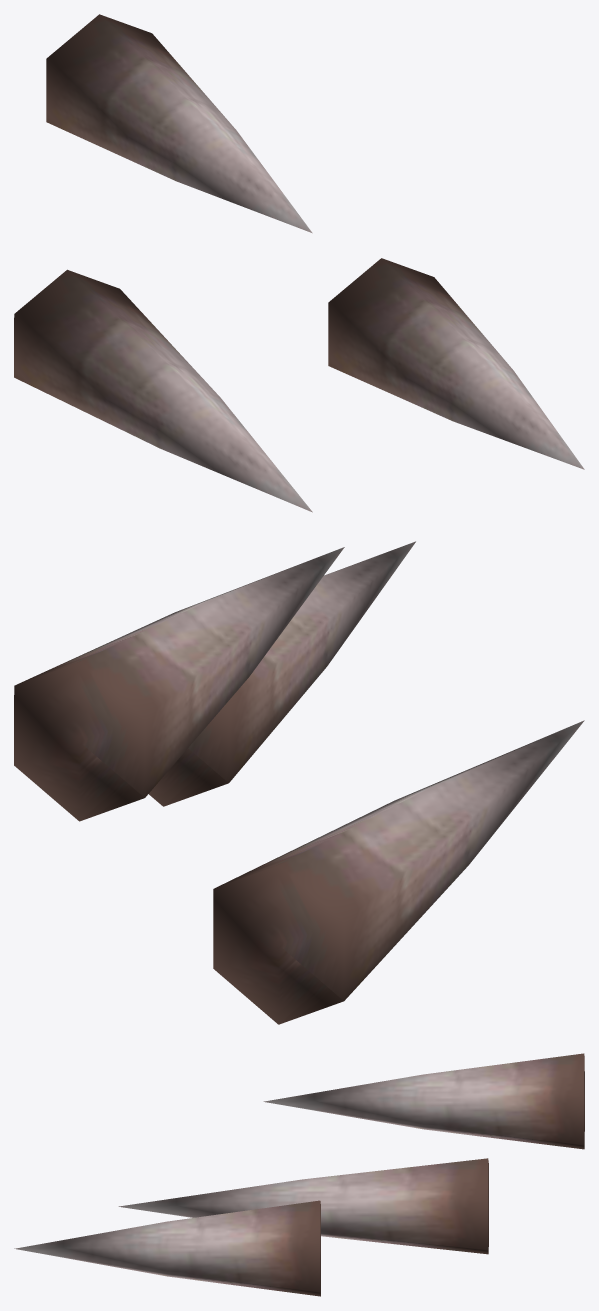
File: Monster_Muhroom_Thorn_Thorn.fbx
3 views of the same model, one above another, from view 1: azimuth 30°, elevation 25°; view 2: azimuth 150°, elevation 25°; view 3: azimuth 270°, elevation 25° (orthographic). The views are drawn at different scales.
Parts seen in each view (by area): view 1: Monster_Muhroom_Thorn_Thorn; view 2: Monster_Muhroom_Thorn_Thorn; view 3: Monster_Muhroom_Thorn_Thorn.
Part boxes in pixels (x1,y1,x2,y2): Monster_Muhroom_Thorn_Thorn: (14, 14, 584, 512); Monster_Muhroom_Thorn_Thorn: (14, 541, 584, 1024); Monster_Muhroom_Thorn_Thorn: (14, 1053, 584, 1296).
Size of the model in its own units: 0.3891 by 0.377 by 0.8256.
Materials: 1 (1 with a texture image).
